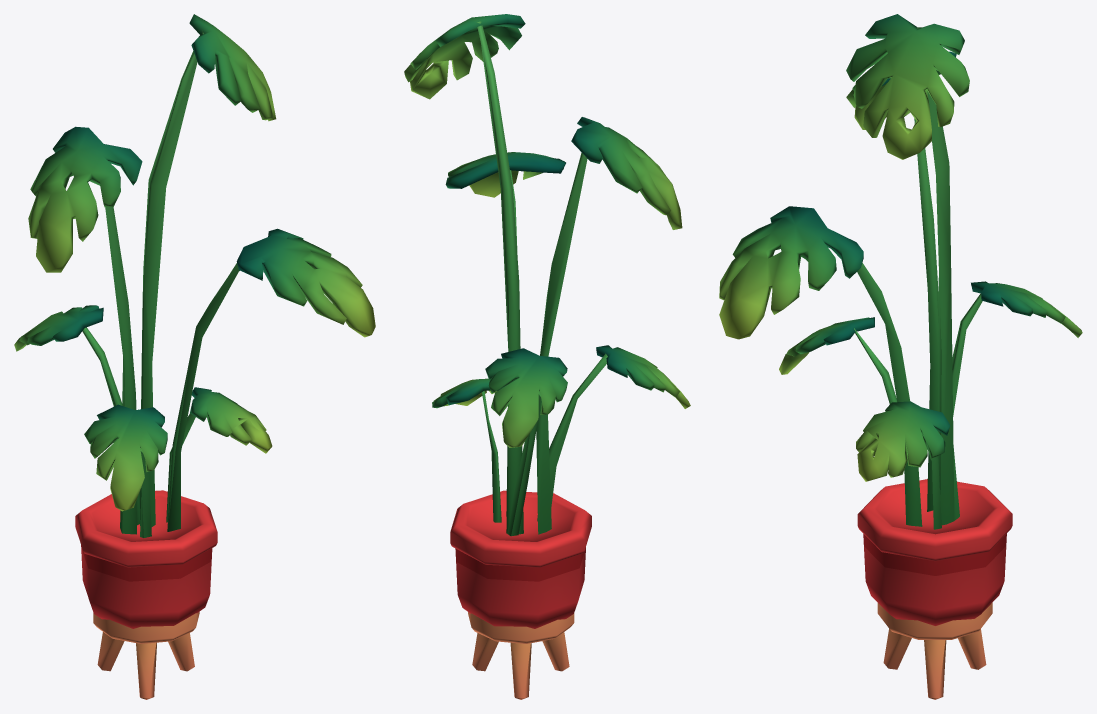
File: Furniture_Plants_16.fbx
3 views of the same model, side by side, from view 1: azimuth 30°, elevation 25°; view 2: azimuth 150°, elevation 25°; view 3: azimuth 270°, elevation 25° (orthographic). The views are drawn at different scales.
Visible parts, largest first — view 1: Furniture_Plants_16; view 2: Furniture_Plants_16; view 3: Furniture_Plants_16.
Boxes of the visible parts, x1=… form: Furniture_Plants_16: x1=14, y1=14, x2=375, y2=699; Furniture_Plants_16: x1=404, y1=14, x2=690, y2=699; Furniture_Plants_16: x1=719, y1=14, x2=1082, y2=699.
Bounding box in the file's own units: 185 × 416 × 201.
